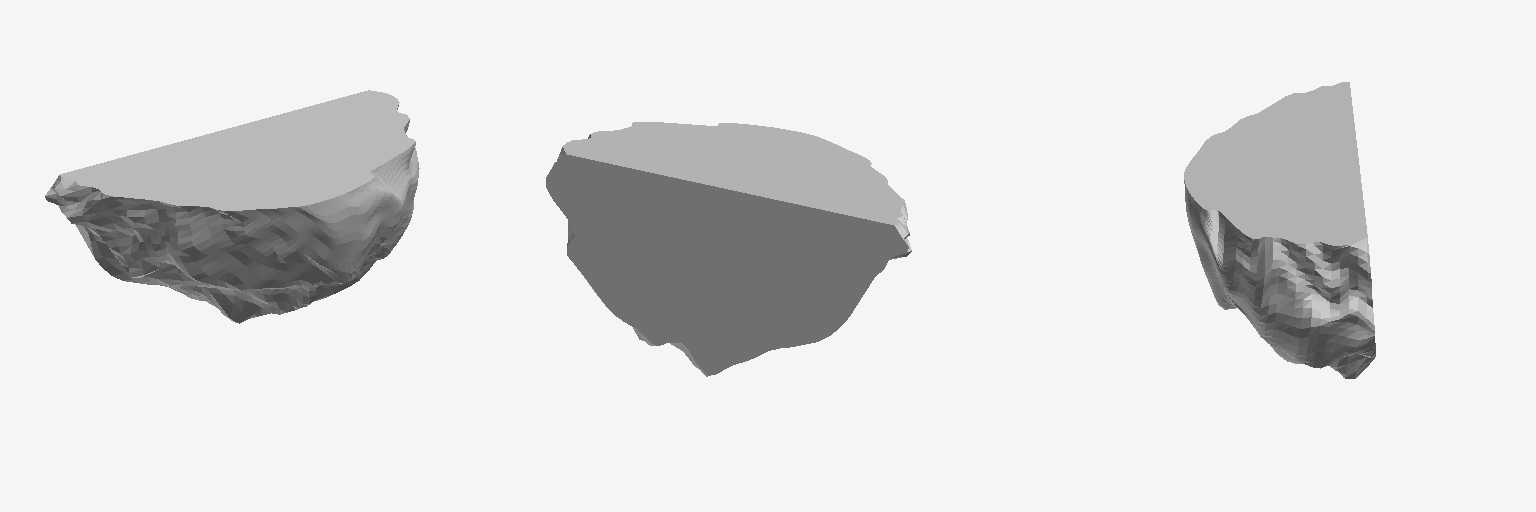
File: Asteroid2quad3.obj
The picture shows the model from 3 angles: view 1: azimuth 30°, elevation 25°; view 2: azimuth 150°, elevation 25°; view 3: azimuth 270°, elevation 25°; orthographic projection.
Parts seen in each view (by area): view 1: asteroid2; view 2: asteroid2; view 3: asteroid2.
Boxes of the visible parts, x1,y1,x2,y2 form: asteroid2: [45, 90, 419, 323]; asteroid2: [546, 122, 911, 376]; asteroid2: [1184, 82, 1375, 378].
Bounding box in the file's own units: 2.6 × 1.34 × 1.23.